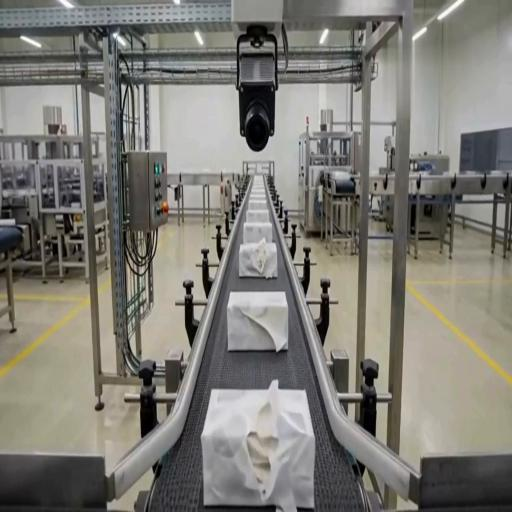defective: (202, 381, 314, 511), (226, 290, 289, 352), (238, 240, 278, 279)
good: (242, 222, 273, 244), (246, 208, 270, 223)
